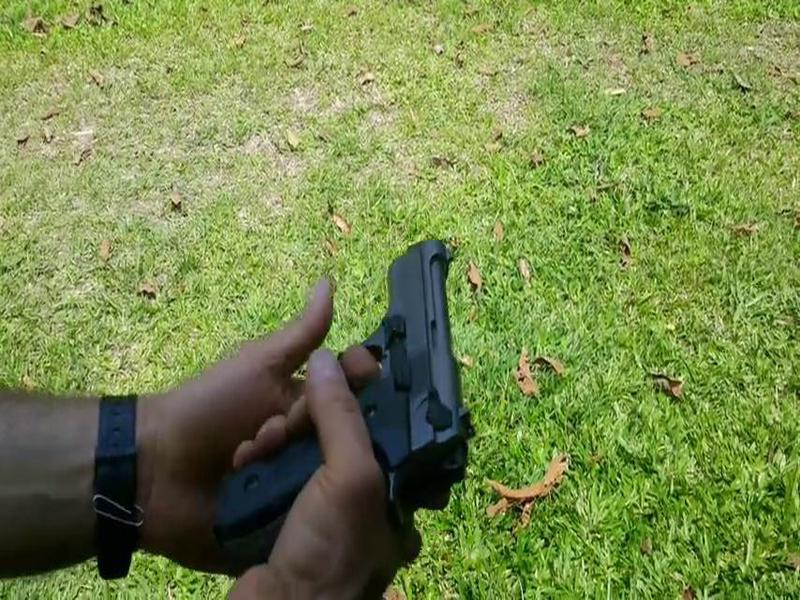Pistola: (215, 229, 482, 587)
